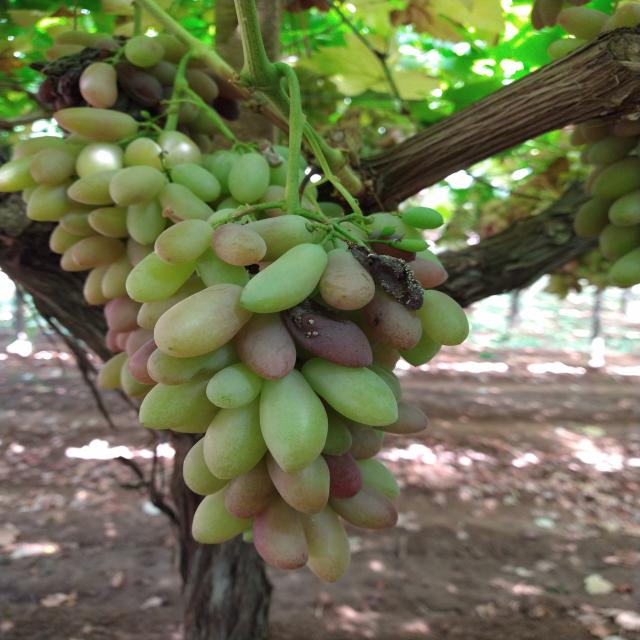grapes: (154, 283, 251, 359), (259, 370, 327, 473), (303, 359, 399, 425), (241, 243, 329, 313), (283, 298, 370, 366), (204, 392, 268, 478), (141, 370, 216, 430), (128, 242, 200, 304), (192, 482, 258, 544), (252, 499, 308, 570), (272, 451, 333, 516), (236, 312, 295, 379), (363, 288, 422, 350), (304, 503, 349, 581), (328, 484, 400, 532), (240, 216, 318, 260), (321, 248, 376, 310), (146, 348, 234, 386), (191, 245, 253, 295), (416, 290, 472, 345), (54, 107, 138, 141), (155, 218, 214, 266), (224, 464, 273, 521), (185, 432, 227, 494), (160, 185, 217, 228), (208, 363, 262, 408), (212, 223, 268, 265), (361, 399, 428, 434), (365, 212, 426, 250), (322, 450, 367, 500), (590, 156, 640, 200), (109, 166, 164, 206), (229, 152, 270, 204), (352, 457, 402, 499), (262, 186, 318, 223), (127, 194, 166, 246), (26, 178, 74, 220), (136, 294, 192, 330), (170, 163, 221, 200), (68, 170, 120, 206), (159, 129, 202, 172), (272, 161, 318, 200), (76, 141, 122, 180), (31, 145, 74, 186), (559, 7, 611, 39), (600, 222, 640, 263), (74, 236, 125, 268), (81, 63, 116, 109), (588, 136, 640, 166), (575, 197, 612, 238), (398, 332, 441, 367), (95, 351, 131, 392), (130, 339, 160, 386), (123, 137, 163, 172), (364, 364, 404, 398), (211, 150, 242, 193), (341, 424, 384, 455), (405, 259, 449, 289), (121, 352, 151, 396), (86, 208, 128, 238), (102, 256, 132, 298), (609, 248, 640, 288), (59, 208, 102, 236), (0, 157, 34, 192), (106, 298, 140, 333), (126, 36, 163, 68), (125, 71, 163, 102), (184, 68, 217, 102), (84, 266, 112, 306), (50, 225, 86, 254), (15, 136, 61, 158), (126, 235, 155, 269), (549, 38, 593, 60), (274, 146, 308, 172), (125, 328, 154, 356), (61, 246, 94, 270), (612, 1, 640, 29), (584, 166, 604, 196), (115, 328, 136, 348), (106, 331, 123, 351), (582, 146, 598, 166), (21, 187, 35, 202)
